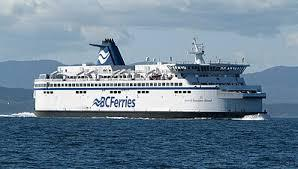Ship: (35, 39, 267, 118)
